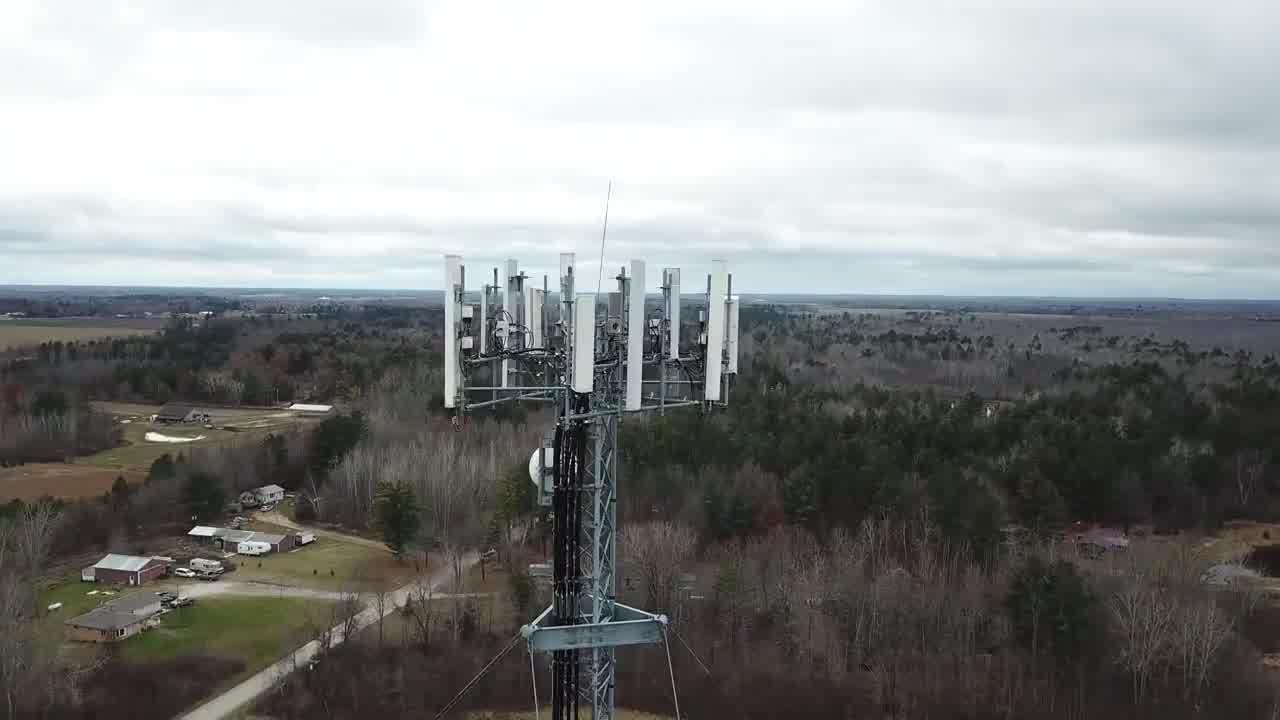Microwave Antenna: (527, 435, 560, 503)
antenna: (432, 251, 475, 414), (499, 255, 535, 391), (626, 257, 651, 408), (570, 292, 602, 402), (702, 257, 725, 407), (553, 253, 578, 320), (667, 259, 682, 367)
